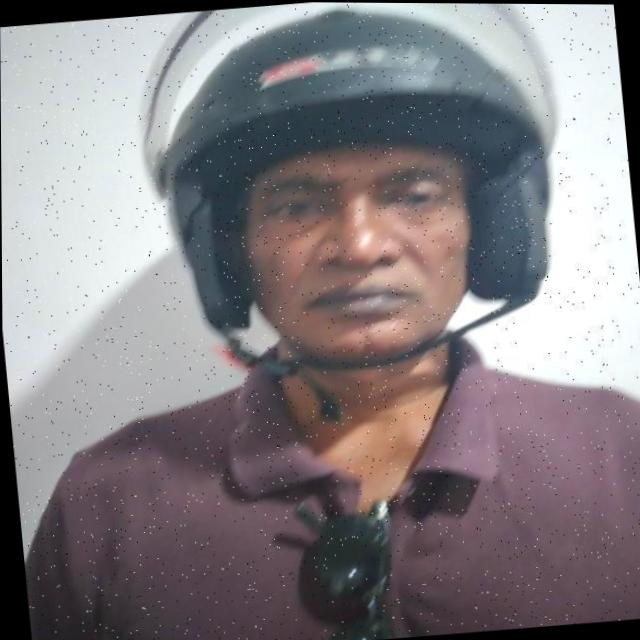helmet: (127, 1, 582, 437)
